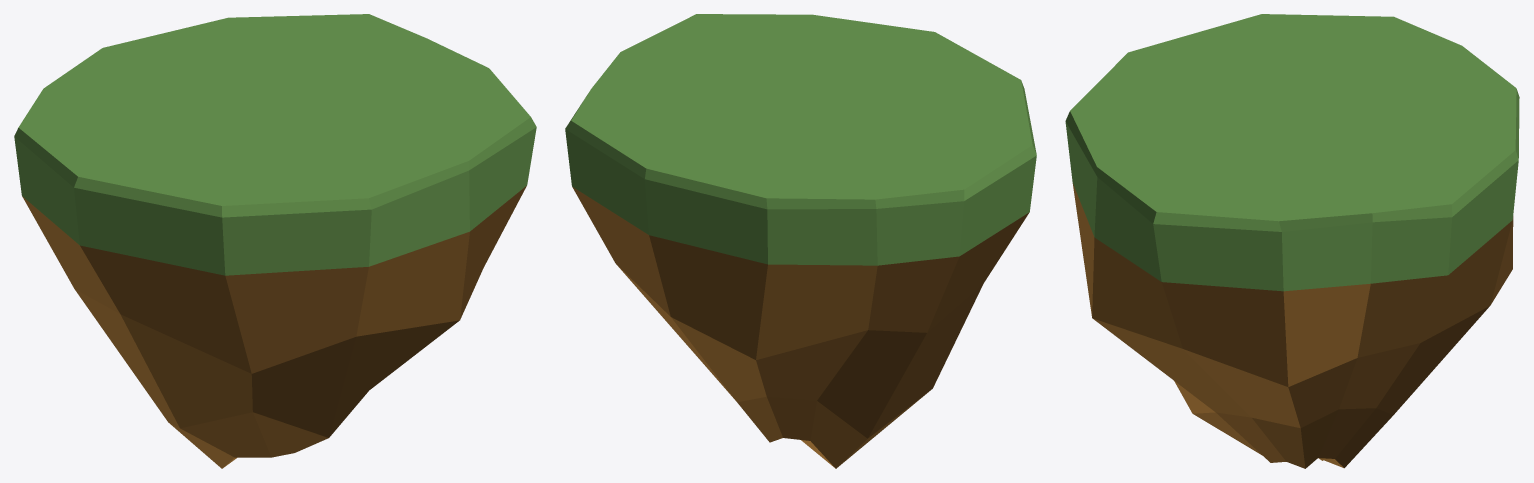
Rendered from Platform.fbx.
3 views of the same model, side by side, from view 1: azimuth 30°, elevation 25°; view 2: azimuth 150°, elevation 25°; view 3: azimuth 270°, elevation 25° (orthographic). The views are drawn at different scales.
Parts seen in each view (by area): view 1: Platform; view 2: Platform; view 3: Platform.
Part boxes in pixels (x1,y1,x2,y2): Platform: [14, 14, 536, 468]; Platform: [565, 14, 1036, 468]; Platform: [1065, 14, 1519, 468].
Bounding box in the file's own units: 654 × 507 × 577.
